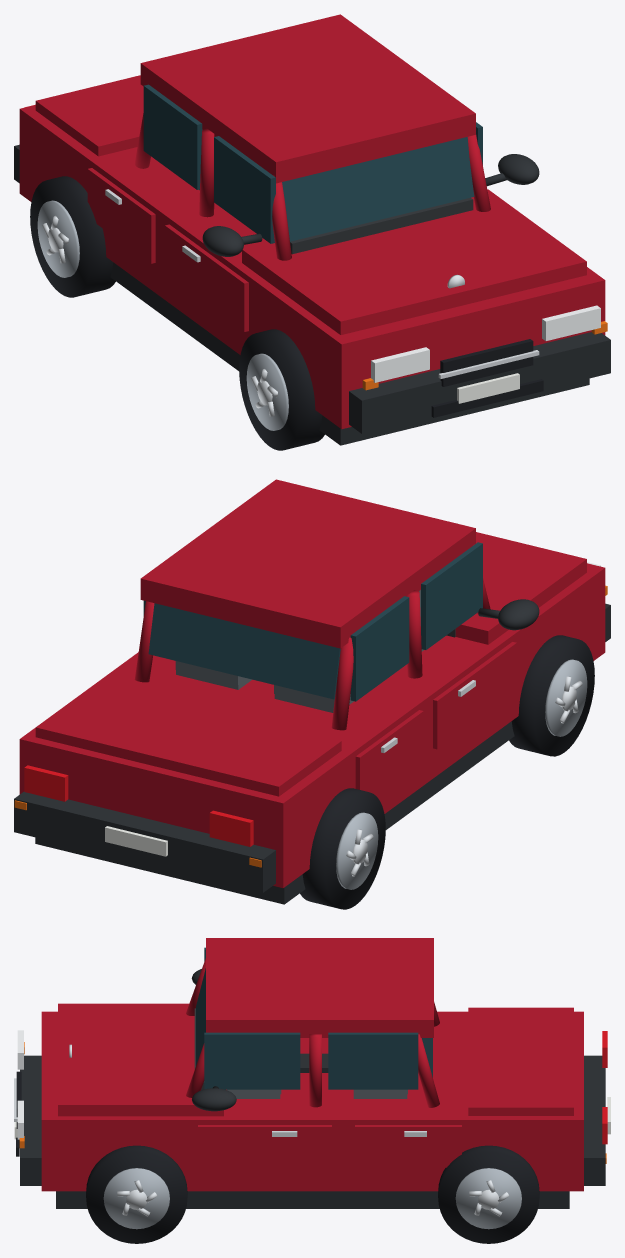
The model's file is auto4.glb.
3 views of the same model, one above another, from view 1: azimuth 30°, elevation 25°; view 2: azimuth 150°, elevation 25°; view 3: azimuth 270°, elevation 25° (orthographic). The views are drawn at different scales.
Visible parts, largest first — view 1: Techo rojo cereza, Carroceria rojo cereza, Capo rojo, Parabrisas delantero, Defensa delantera, Cajuela roja, Neumatico delantero Izquierdo, Neumatico trasero Izquierdo, Chasis inferior, Puerta delantera Izquierdo, Ventana delantera Izquierdo, Ventana trasera Izquierdo (+15 smaller); view 2: Carroceria rojo cereza, Techo rojo cereza, Cajuela roja, Defensa trasera, Cristal trasero, Capo rojo, Neumatico trasero Izquierdo, Neumatico delantero Izquierdo, Chasis inferior, Ventana delantera Izquierdo, Puerta delantera Izquierdo, Ventana trasera Izquierdo (+12 smaller); view 3: Carroceria rojo cereza, Techo rojo cereza, Capo rojo, Cajuela roja, Chasis inferior, Puerta delantera Derecho, Ventana delantera Derecho, Ventana trasera Derecho, Neumatico delantero Derecho, Neumatico trasero Derecho, Puerta trasera Derecho, Defensa trasera (+10 smaller).
Part boxes in pixels (x1=…): Techo rojo cereza: x1=140, y1=14, x2=475, y2=183; Carroceria rojo cereza: x1=19, y1=105, x2=605, y2=429; Capo rojo: x1=242, y1=189, x2=586, y2=334; Parabrisas delantero: x1=282, y1=137, x2=474, y2=241; Defensa delantera: x1=349, y1=332, x2=610, y2=433; Cajuela roja: x1=35, y1=75, x2=143, y2=156; Neumatico delantero Izquierdo: x1=239, y1=329, x2=324, y2=450; Neumatico trasero Izquierdo: x1=30, y1=176, x2=115, y2=297; Chasis inferior: x1=110, y1=262, x2=589, y2=445; Puerta delantera Izquierdo: x1=165, y1=224, x2=248, y2=331; Ventana delantera Izquierdo: x1=214, y1=136, x2=275, y2=243; Ventana trasera Izquierdo: x1=143, y1=84, x2=202, y2=189; Carroceria rojo cereza: x1=19, y1=563, x2=605, y2=887; Techo rojo cereza: x1=140, y1=479, x2=475, y2=648; Cajuela roja: x1=35, y1=681, x2=341, y2=796; Defensa trasera: x1=14, y1=791, x2=275, y2=892; Cristal trasero: x1=148, y1=603, x2=340, y2=699; Capo rojo: x1=455, y1=532, x2=586, y2=644; Neumatico trasero Izquierdo: x1=300, y1=788, x2=385, y2=909; Neumatico delantero Izquierdo: x1=509, y1=635, x2=594, y2=756; Chasis inferior: x1=35, y1=721, x2=514, y2=904; Ventana delantera Izquierdo: x1=421, y1=542, x2=482, y2=649; Puerta delantera Izquierdo: x1=433, y1=642, x2=516, y2=749; Ventana trasera Izquierdo: x1=350, y1=596, x2=409, y2=701; Carroceria rojo cereza: x1=41, y1=1011, x2=583, y2=1191; Techo rojo cereza: x1=206, y1=938, x2=433, y2=1037; Capo rojo: x1=58, y1=1003, x2=223, y2=1116; Cajuela roja: x1=468, y1=1007, x2=573, y2=1115; Chasis inferior: x1=56, y1=1191, x2=569, y2=1208; Puerta delantera Derecho: x1=198, y1=1125, x2=331, y2=1167; Ventana delantera Derecho: x1=204, y1=1032, x2=300, y2=1089; Ventana trasera Derecho: x1=328, y1=1032, x2=418, y2=1089; Neumatico delantero Derecho: x1=86, y1=1145, x2=187, y2=1243; Neumatico trasero Derecho: x1=438, y1=1145, x2=539, y2=1243; Puerta trasera Derecho: x1=355, y1=1125, x2=461, y2=1167; Defensa trasera: x1=584, y1=1055, x2=605, y2=1185.
Size of the model in its own units: 2.26 by 1.6 by 4.24.
